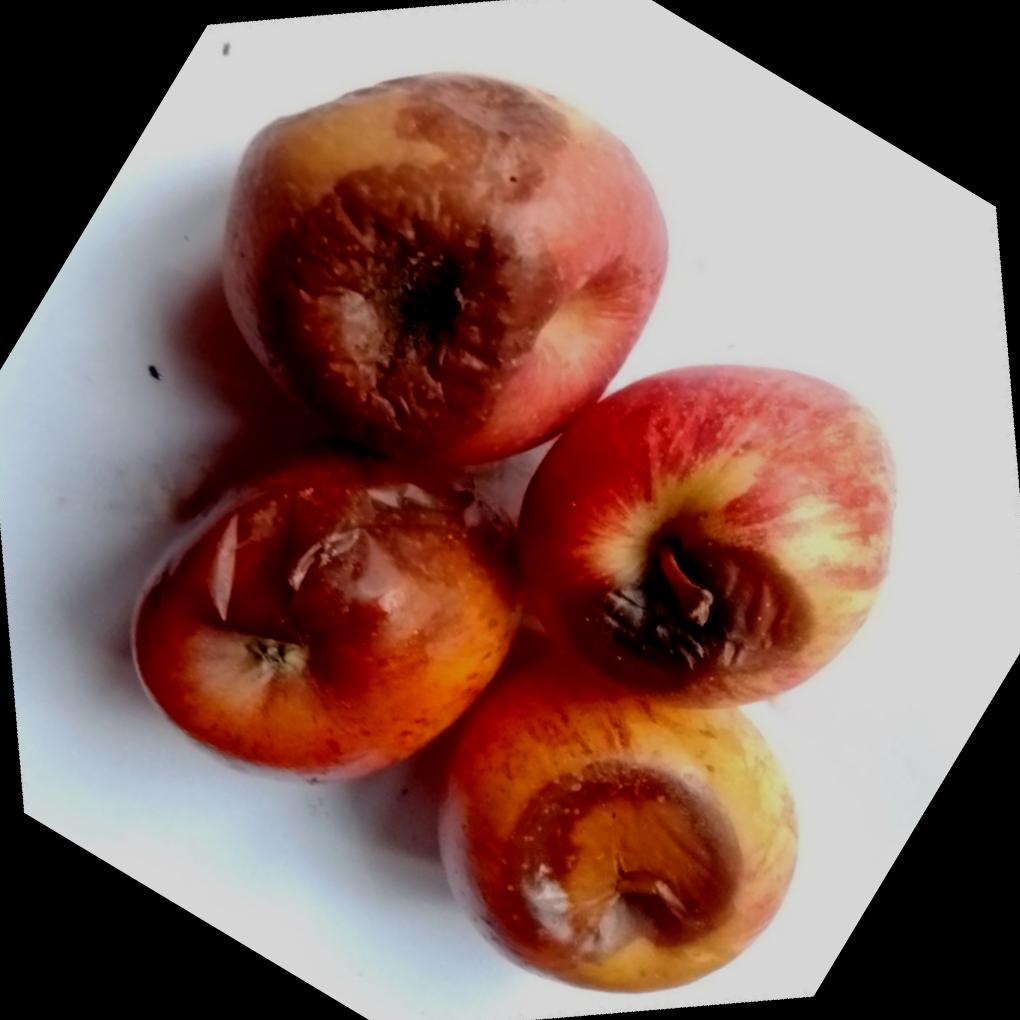FreshOrange: (128, 73, 897, 995)
